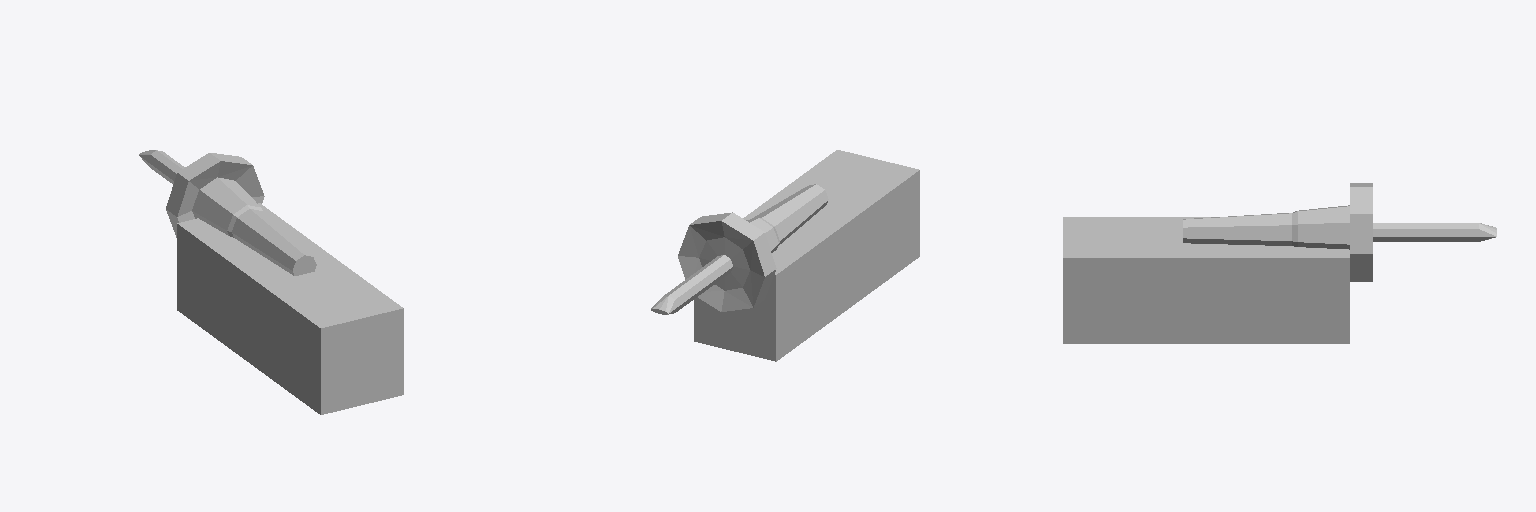
File: modelToolSolderingIron.obj
The picture shows the model from 3 angles: view 1: azimuth 30°, elevation 25°; view 2: azimuth 150°, elevation 25°; view 3: azimuth 270°, elevation 25°; orthographic projection.
Visible parts, largest first — view 1: Hand, SolderingIron; view 2: Hand, SolderingIron; view 3: Hand, SolderingIron.
Boxes of the visible parts, box(x1,y1,x2,y2) form: Hand: box(177, 203, 403, 414); SolderingIron: box(139, 150, 316, 275); Hand: box(694, 150, 919, 361); SolderingIron: box(651, 184, 828, 314); Hand: box(1063, 217, 1349, 343); SolderingIron: box(1183, 183, 1496, 281).
Bounding box in the file's own units: 0.6238 × 0.9449 × 2.68.